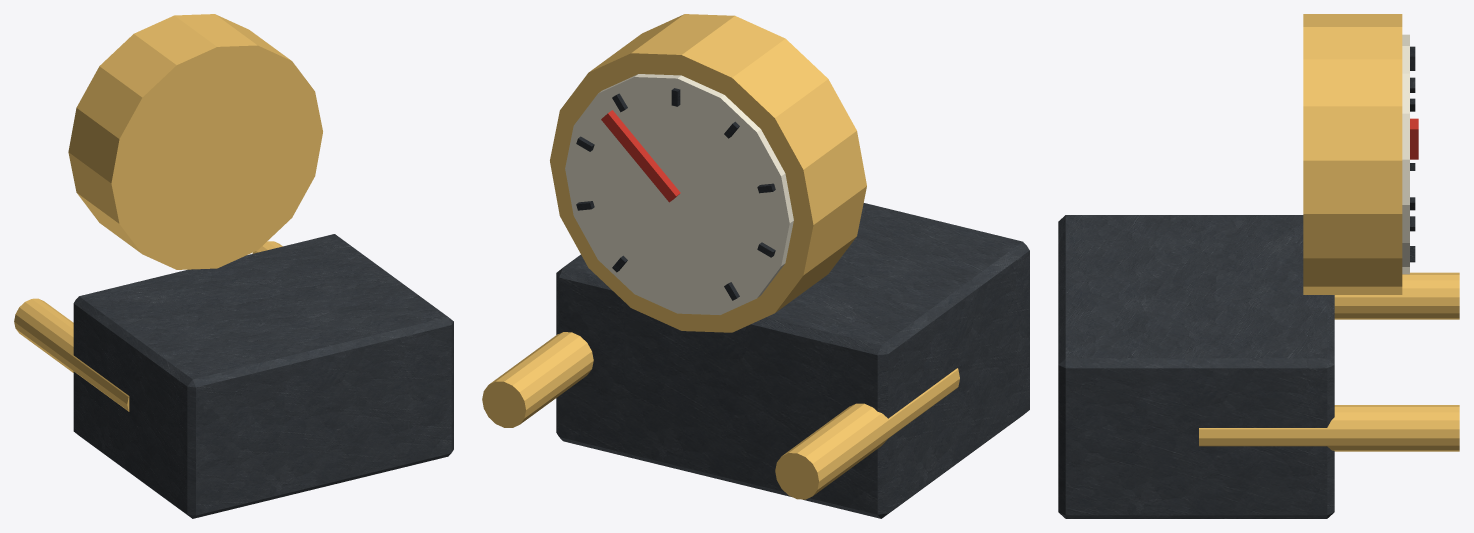
Rendered from train_pressure_unit.gltf.
3 views of the same model, side by side, from view 1: azimuth 30°, elevation 25°; view 2: azimuth 150°, elevation 25°; view 3: azimuth 270°, elevation 25° (orthographic). The views are drawn at different scales.
Bounding box in the file's own units: 0.69 × 0.89 × 0.77.
5 materials, 2 textured.
